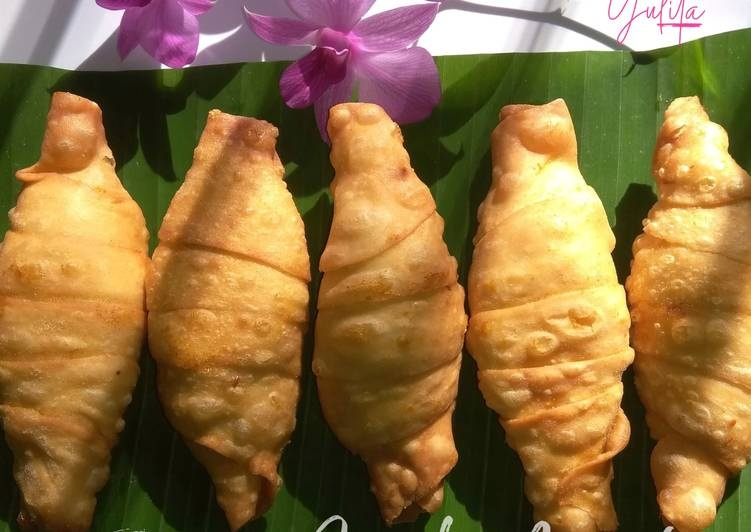pisang_molen: (469, 94, 630, 531), (146, 108, 309, 532), (310, 102, 472, 525), (0, 91, 146, 532), (626, 96, 749, 531)
